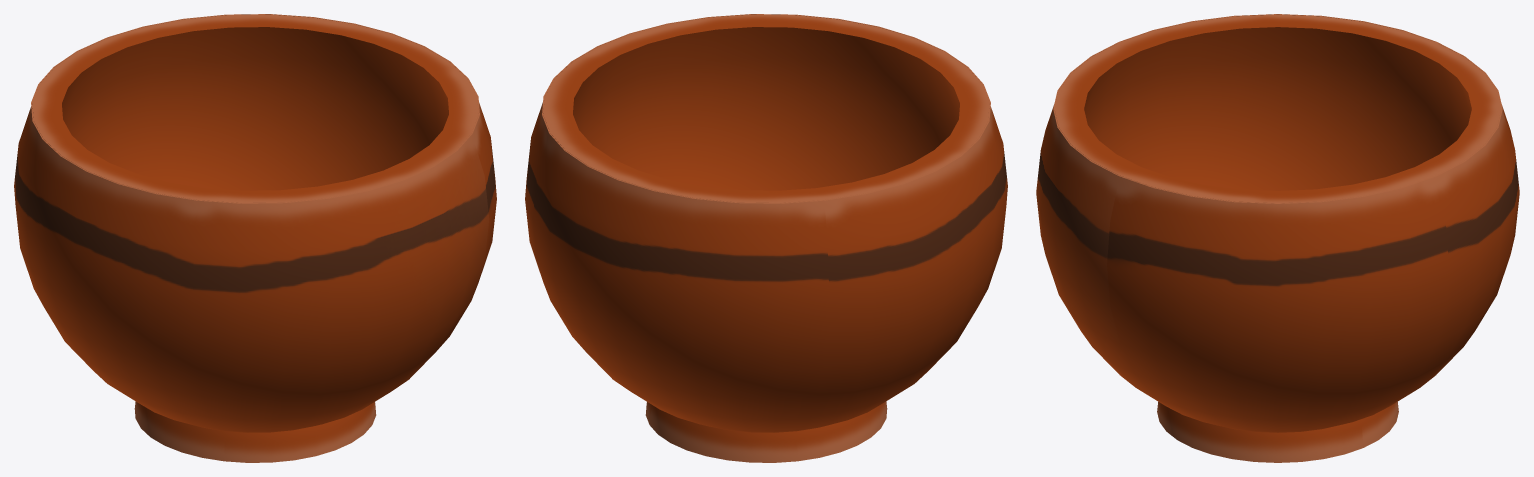
The model's file is obj_pot_v1_9fa0e2.glb.
The picture shows the model from 3 angles, left to right: view 1: azimuth 30°, elevation 25°; view 2: azimuth 150°, elevation 25°; view 3: azimuth 270°, elevation 25°; orthographic projection.
Visible parts, largest first — view 1: obj_pot_v1_9fa0e2; view 2: obj_pot_v1_9fa0e2; view 3: obj_pot_v1_9fa0e2.
Boxes of the visible parts, left/top/right/bottom form: obj_pot_v1_9fa0e2: left=14, top=14, right=496, bottom=462; obj_pot_v1_9fa0e2: left=525, top=14, right=1007, bottom=462; obj_pot_v1_9fa0e2: left=1036, top=14, right=1519, bottom=462.
Bounding box in the file's own units: 0.3 × 0.2074 × 0.3.
1 material, 1 textured.
